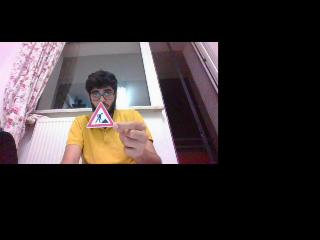construction: (86, 104, 114, 128)
